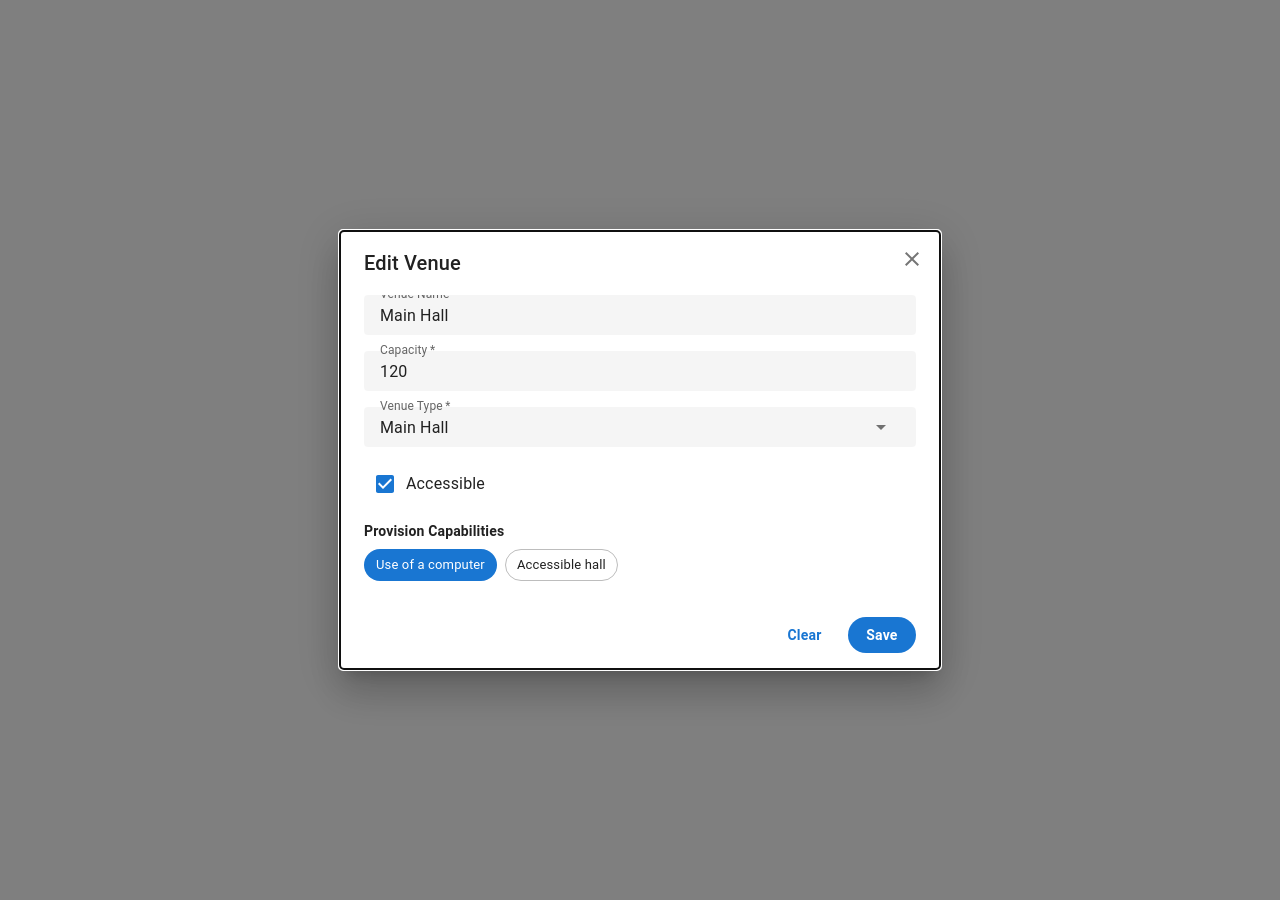
Scenario: Components - EditVenueDialog › disables Save button when mandatory fields are missing
Clear the field labelled "Venue Name *" at coordinates (640, 315), box [380, 304, 900, 327]
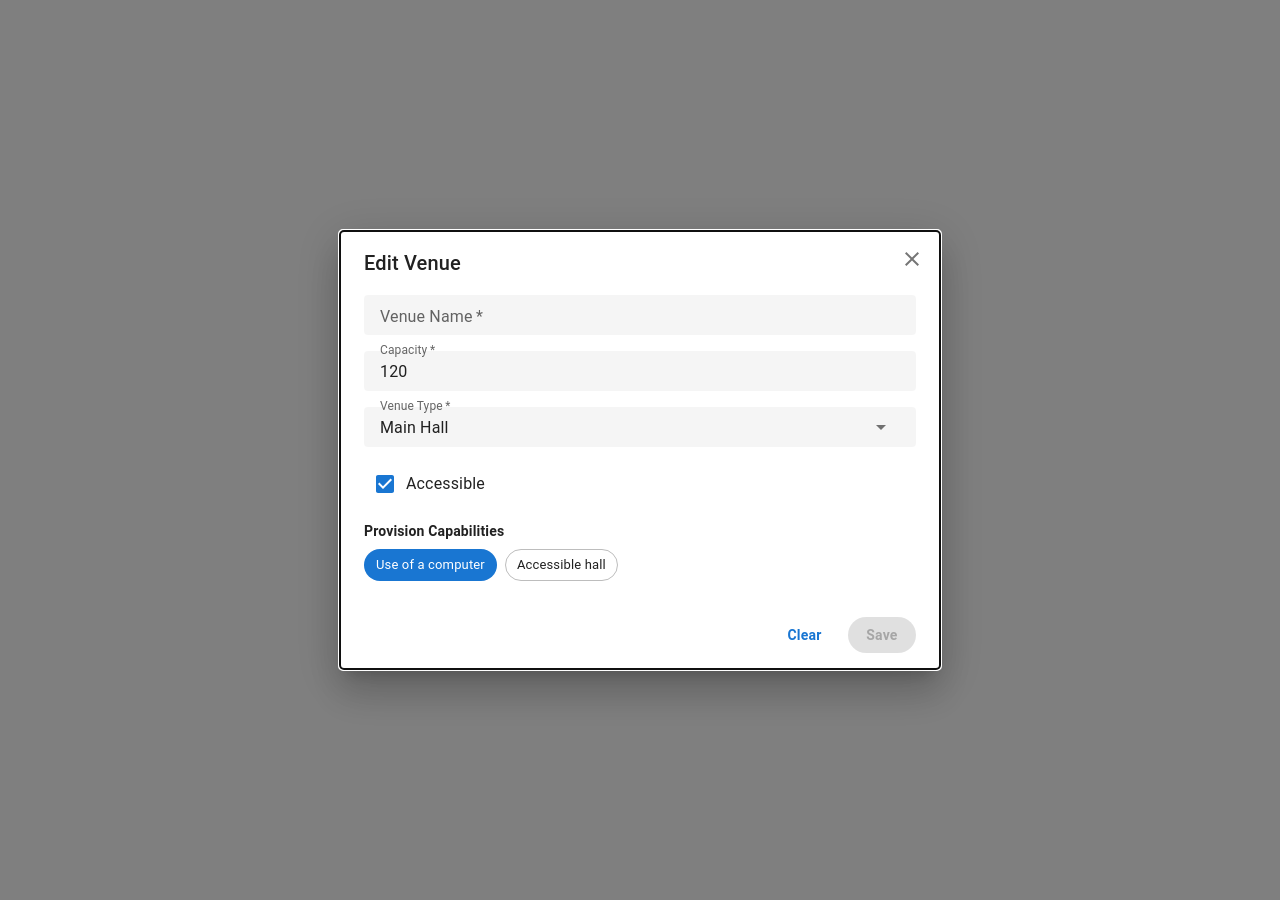
Expected: the button "Save" is disabled, [848, 617, 916, 653]
